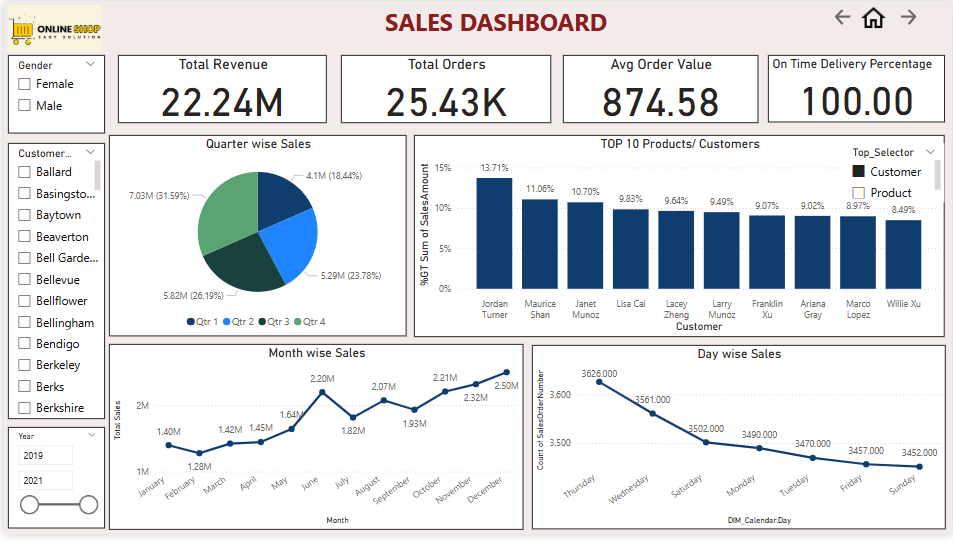

This screenshot's page, from the dashboard's own definition file:
{"tool":"powerbi","page":{"name":"Sales_DashBoard","canvas":[1280,720],"ordinal":1},"visuals":[{"type":"card","title":"Total Revenue","fields":{"Values":["Sum(Sales_table.SalesAmount)"]},"box":[154.1,73.4,282.2,92.2],"z":0},{"type":"card","title":"Total Orders","fields":{"Values":["Count(Sales_table.SalesOrderNumber)"]},"box":[455,73.4,283.7,92.2],"z":1000},{"type":"card","title":"Avg Order Value","fields":{"Values":["Sales_table.Average Order Value"]},"box":[756,73.4,263.5,92.2],"z":2000},{"type":"pieChart","title":"Quarter wise Sales","fields":{"Y":["Sum(Sales_table.SalesAmount)"],"Category":["Sales_table.DIM_Calendar.DateKey.Variation.Date Hierarchy.Quarter"]},"box":[142.6,181.4,401.8,272.2],"z":3000},{"type":"lineChart","title":"Month wise Sales","fields":{"Category":["Sales_table.DIM_Calendar.DateKey.Variation.Date Hierarchy.Month"],"Y":["Sales_table.Total Sales"]},"box":[142.6,463.7,560.2,250.6],"z":4000},{"type":"card","title":"On Time Delivery Percentage","fields":{"Values":["Sales_table.OnTimeDeliveryPercentage"]},"box":[1032.9,72.9,238.6,91.4],"z":5000},{"type":"clusteredColumnChart","title":"TOP 10 Products/ Customers ","fields":{"Category":["Sales_table.Full_Name"],"Y":["Sum(Sales_table.SalesAmount)"]},"box":[554.3,181.4,717.1,272.9],"z":5500},{"type":"slicer","fields":{"Values":["Top_Selector.Top_Selector"]},"box":[1134.3,191.4,137.1,80],"z":6000},{"type":"lineChart","title":"Day wise Sales","fields":{"Y":["Count(Sales_table.SalesOrderNumber)"],"Category":["Sales_table.DIM_Calendar.Day"]},"box":[712.9,464.3,558.6,248.6],"z":8000},{"type":"slicer","fields":{"Values":["Sales_table.Gender"]},"box":[5.7,72.9,131.4,105.7],"z":9000},{"type":"slicer","fields":{"Values":["Sales_table.Customer_City"]},"box":[5.7,191.4,131.4,372.9],"z":10000},{"type":"slicer","fields":{"Values":["Sales_table.DIM_Calendar.Date.Variation.Date Hierarchy.Year"]},"box":[5.7,575.7,131.4,137.1],"z":11000},{"type":"textbox","box":[154.3,0,1021.4,60],"z":12000},{"type":"image","box":[1146.2,0,57.6,46.1],"z":13000},{"type":"actionButton","box":[1118.9,7.2,36,30.2],"z":14000},{"type":"actionButton","box":[1206.7,7.2,44.6,30.2],"z":15000},{"type":"image","box":[0,0,137.1,72.9],"z":16000}]}

Visuals, with their boxes in screenshot pixels (x1, y1, x2, y2), scaled from the page's 1280x720 canvas onto the 953x541 screenshot:
"Total Revenue" card: (left=115, top=55, right=325, bottom=124)
"Total Orders" card: (left=339, top=55, right=550, bottom=124)
"Avg Order Value" card: (left=563, top=55, right=759, bottom=124)
"Quarter wise Sales" pieChart: (left=106, top=136, right=405, bottom=341)
"Month wise Sales" lineChart: (left=106, top=348, right=523, bottom=537)
"On Time Delivery Percentage" card: (left=769, top=55, right=947, bottom=123)
"TOP 10 Products/ Customers " clusteredColumnChart: (left=413, top=136, right=947, bottom=341)
slicer - Top_Selector.Top_Selector: (left=845, top=144, right=947, bottom=204)
"Day wise Sales" lineChart: (left=531, top=349, right=947, bottom=536)
slicer - Sales_table.Gender: (left=4, top=55, right=102, bottom=134)
slicer - Sales_table.Customer_City: (left=4, top=144, right=102, bottom=424)
slicer - Sales_table.DIM_Calendar.Date.Variation.Date Hierarchy.Year: (left=4, top=433, right=102, bottom=536)
textbox: (left=115, top=0, right=875, bottom=45)
image: (left=853, top=0, right=896, bottom=35)
actionButton: (left=833, top=5, right=860, bottom=28)
actionButton: (left=898, top=5, right=932, bottom=28)
image: (left=0, top=0, right=102, bottom=55)
